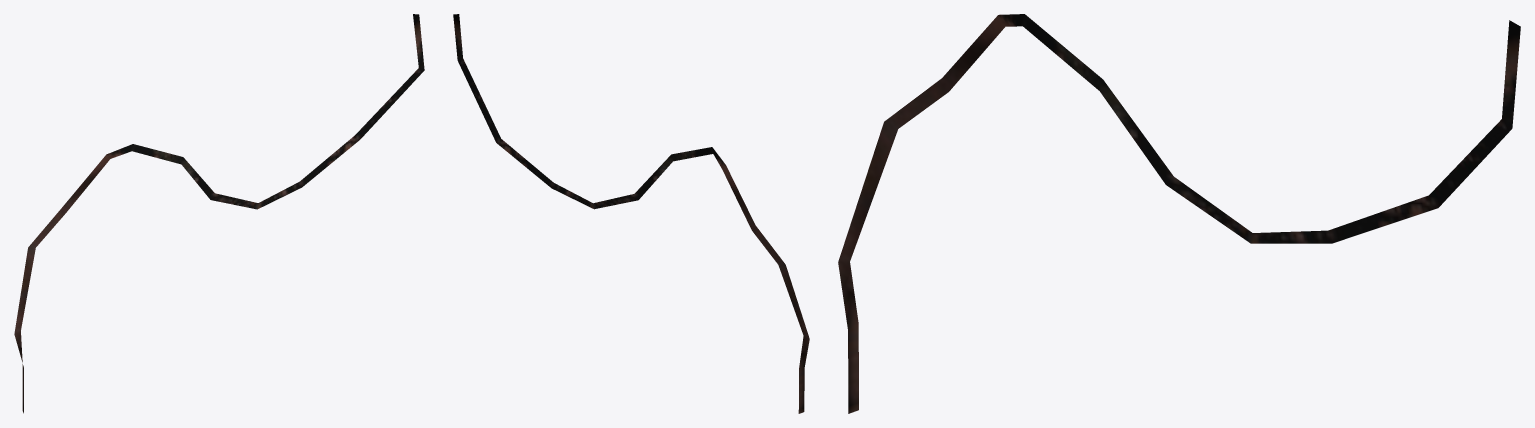
Rendered from StreetLight_BrokenWire.FBX.
3 renders of one model, left to right at view 1: azimuth 30°, elevation 25°; view 2: azimuth 150°, elevation 25°; view 3: azimuth 330°, elevation 25°, orthographic. The views are drawn at different scales.
Parts seen in each view (by area): view 1: StreetLight_BrokenWire; view 2: StreetLight_BrokenWire; view 3: StreetLight_BrokenWire.
Boxes of the visible parts, box(x1,y1,x2,y2) form: StreetLight_BrokenWire: box(14, 14, 424, 413); StreetLight_BrokenWire: box(453, 14, 809, 413); StreetLight_BrokenWire: box(838, 14, 1520, 413).
Bounding box in the file's own units: 118 × 91.48 × 13.38.
